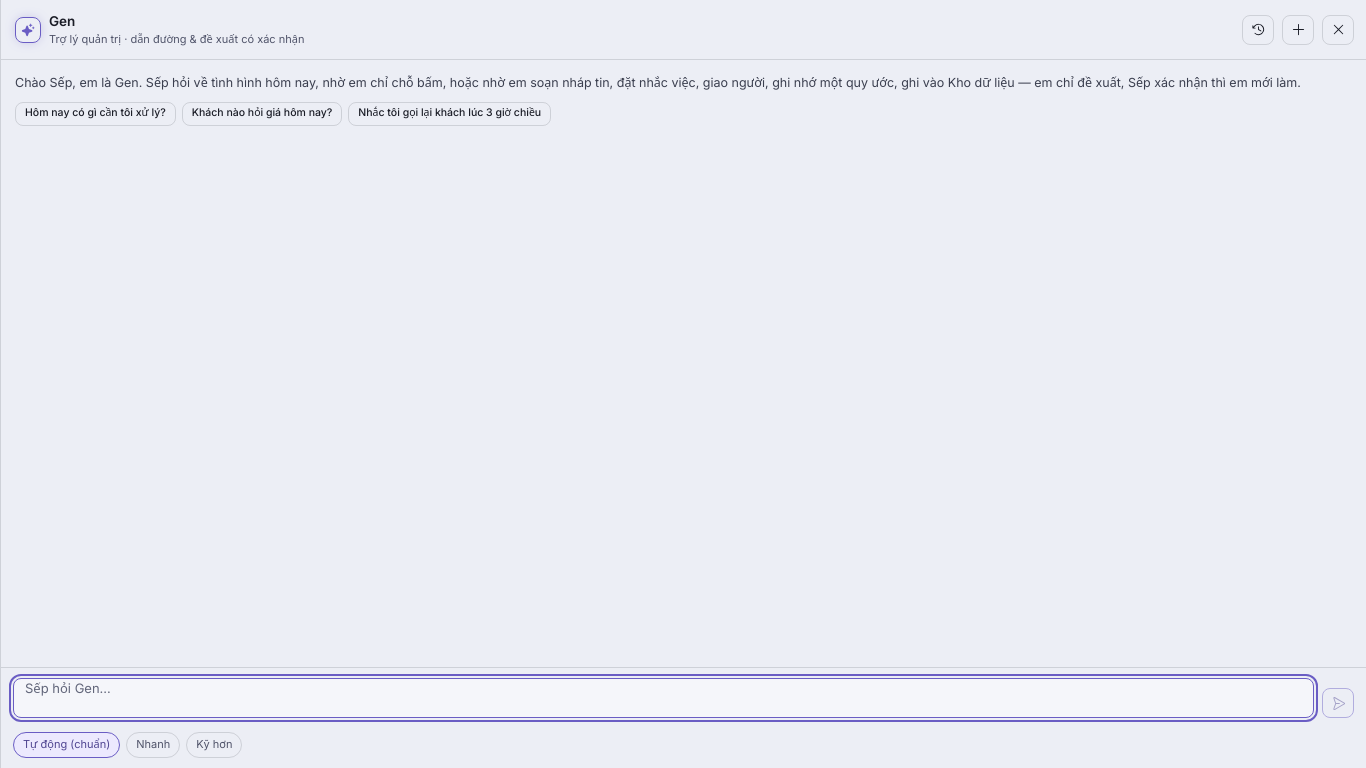
Scenario: Hội thoại cũ (F-8a) › danh sách rỗng ⇒ "Chưa có hội thoại nào"
Click the button named "Hội thoại cũ" at (1258, 30), box 1242,15 -> 1274,45
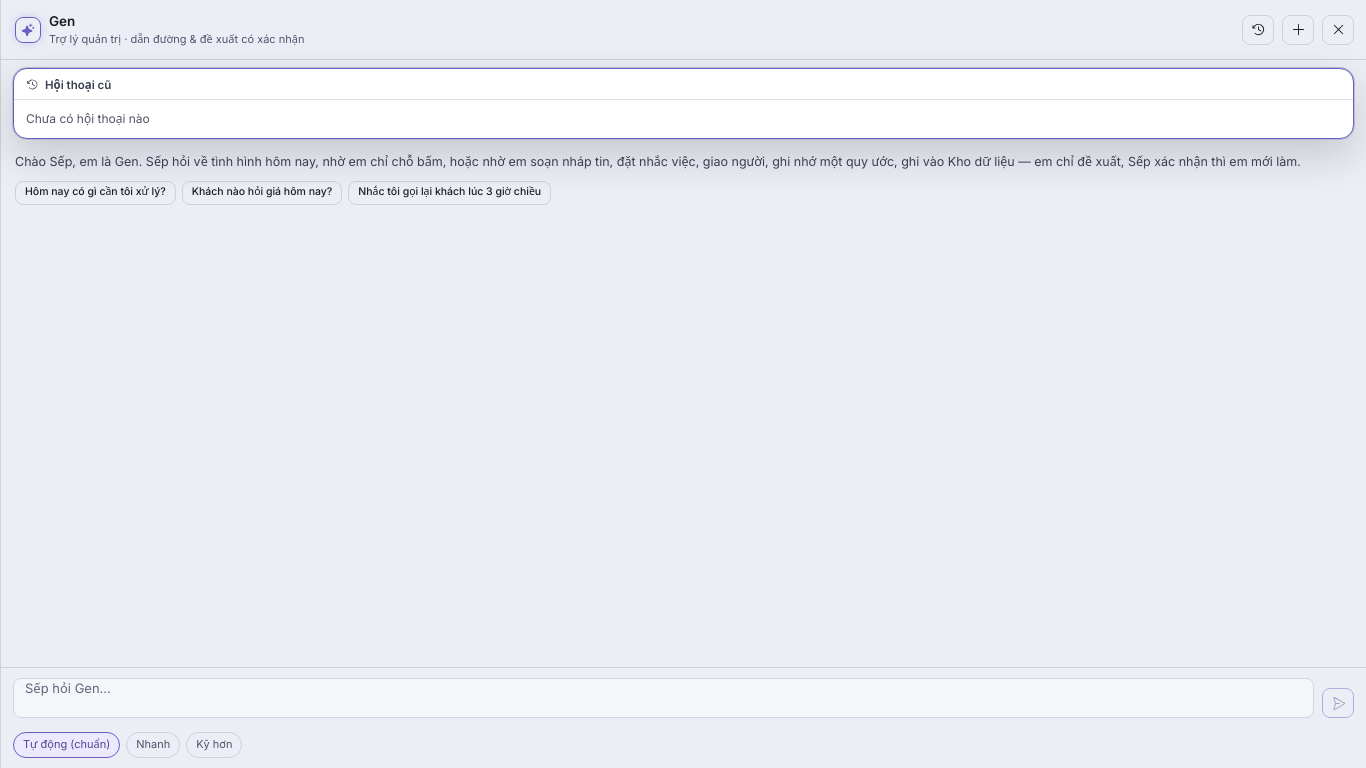
Check: the text "Chưa có hội thoại nào" is shown, box 26,111 -> 150,126
